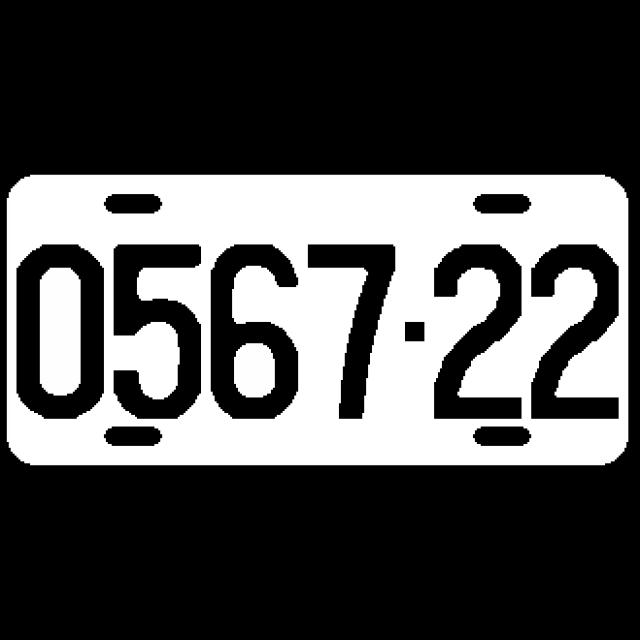plate: (4, 172, 632, 470)
